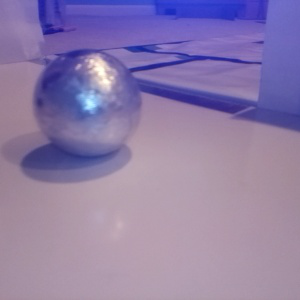alive_ball: (33, 49, 142, 158)
